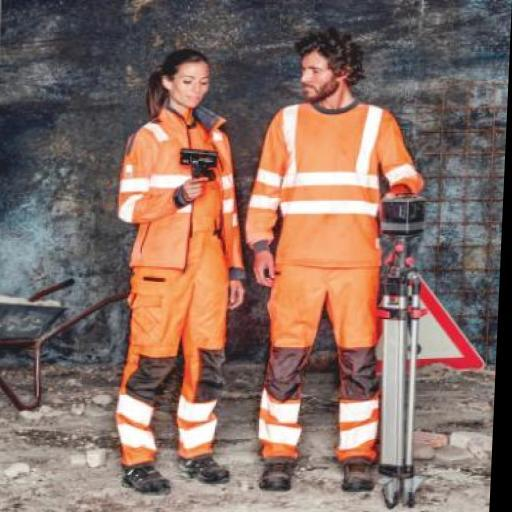safety_boots: (249, 456, 305, 502), (328, 456, 391, 494), (175, 452, 233, 493), (123, 464, 174, 507)
